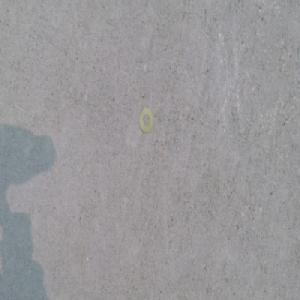Washer: (138, 110, 153, 138)
